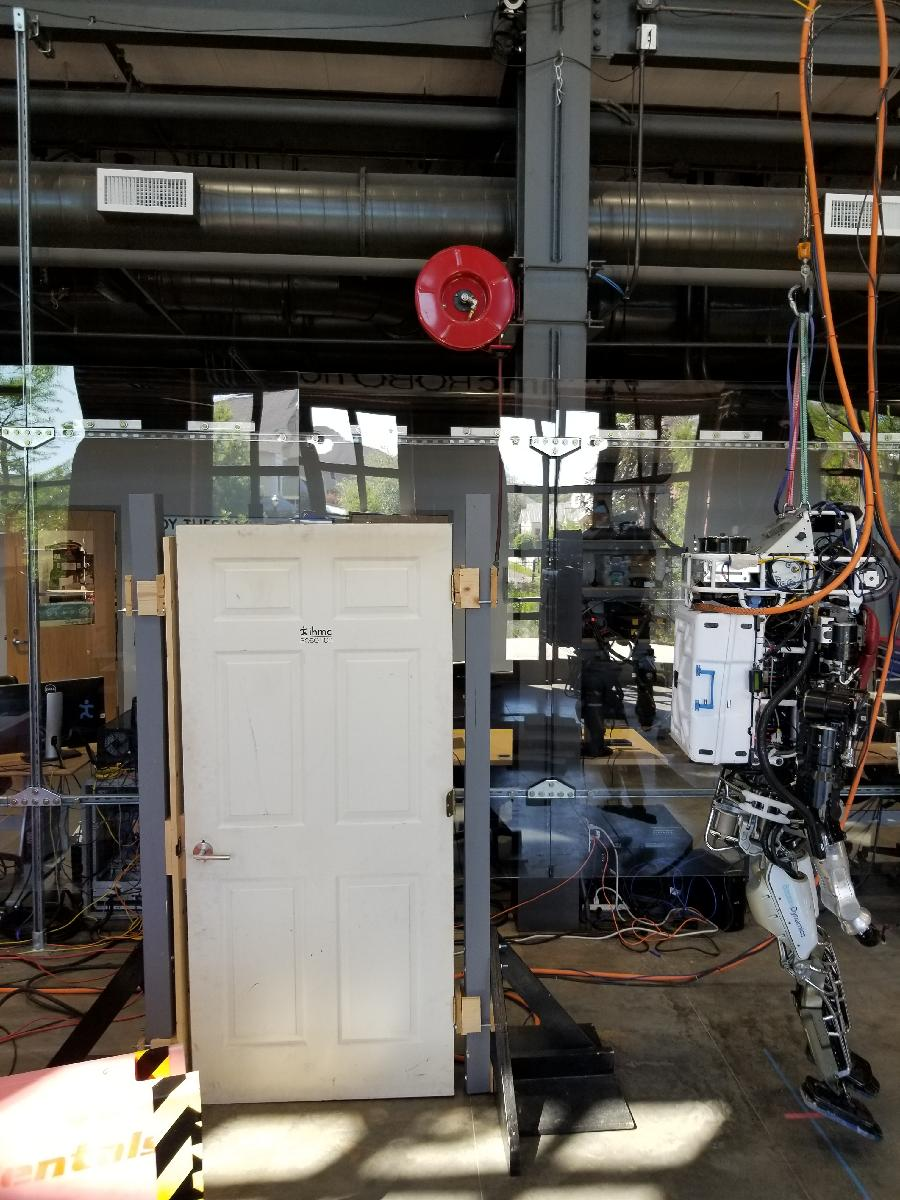door: (173, 521, 462, 1117)
doorHandle: (191, 836, 239, 866)
